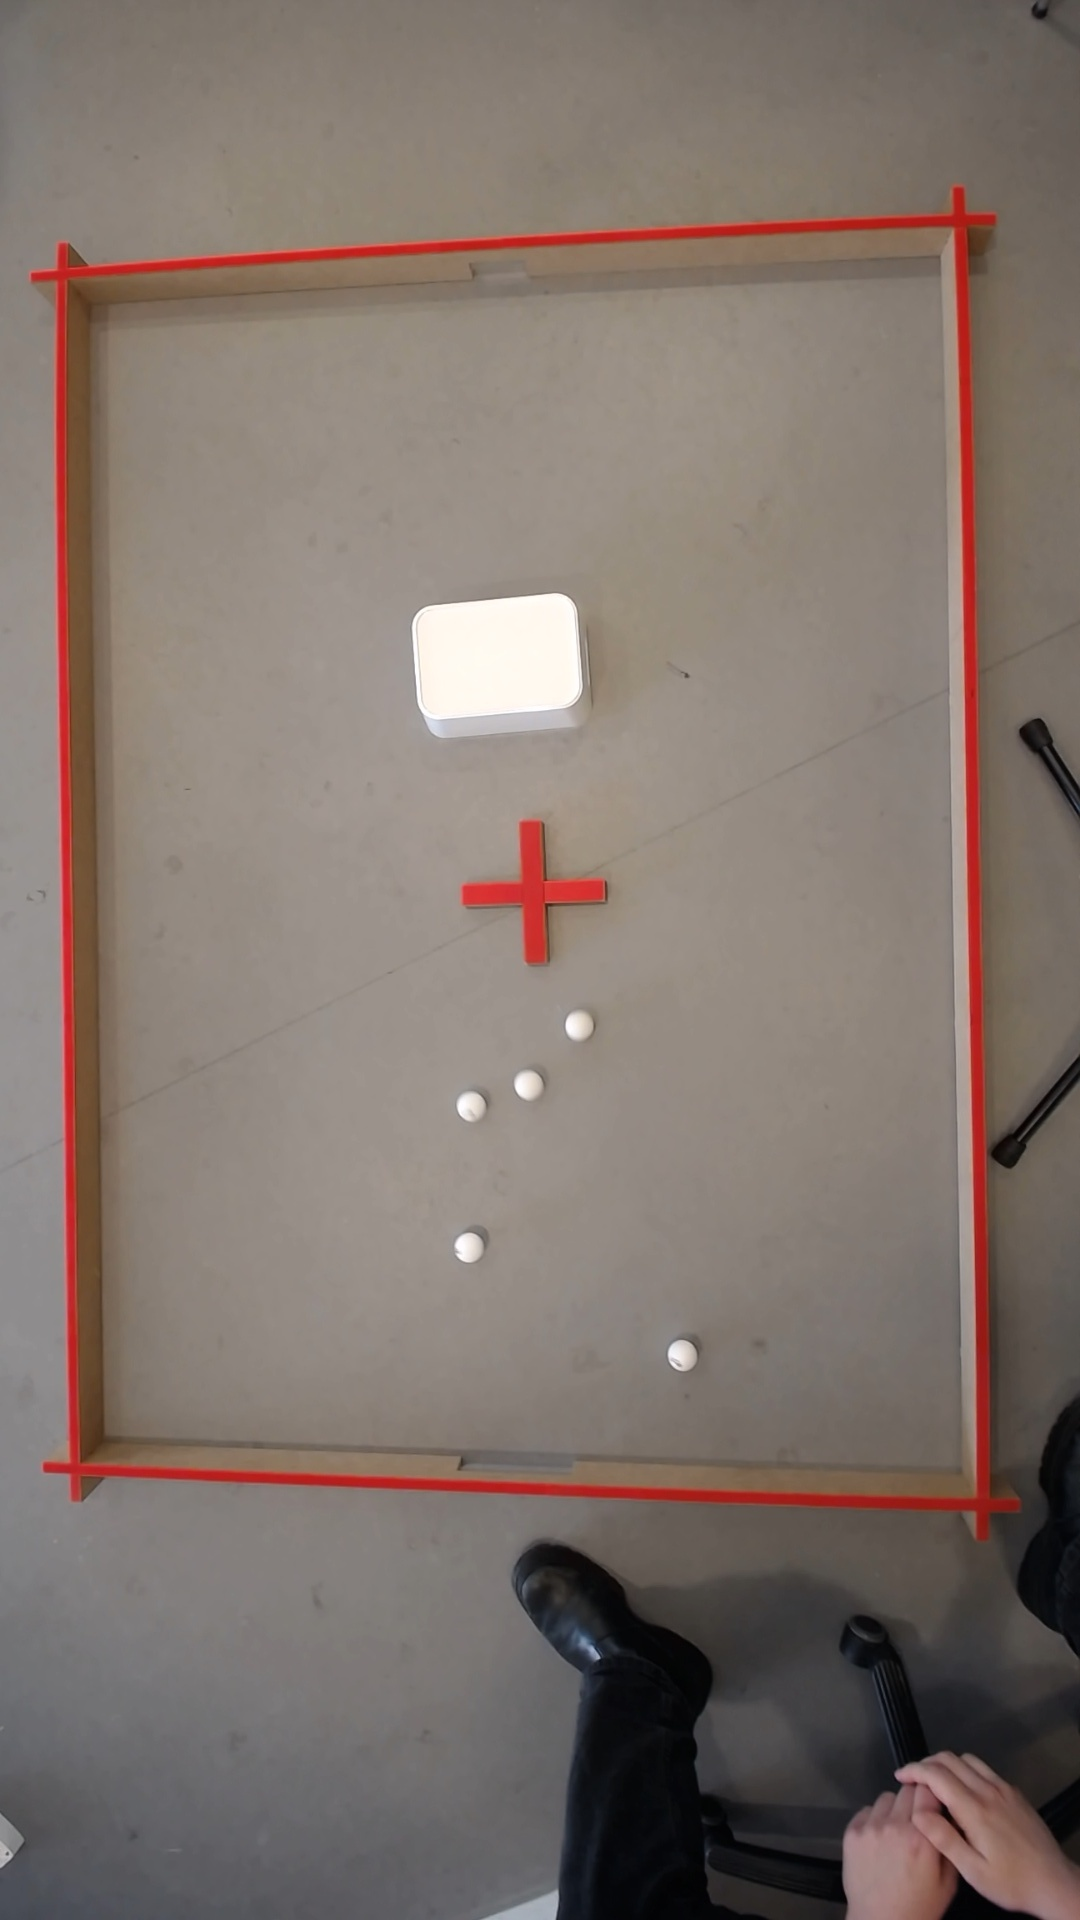balls: (406, 588, 587, 737), (451, 1087, 484, 1122), (454, 1233, 477, 1261), (667, 1341, 688, 1369), (514, 1072, 535, 1097)
car: (564, 1013, 585, 1038)
